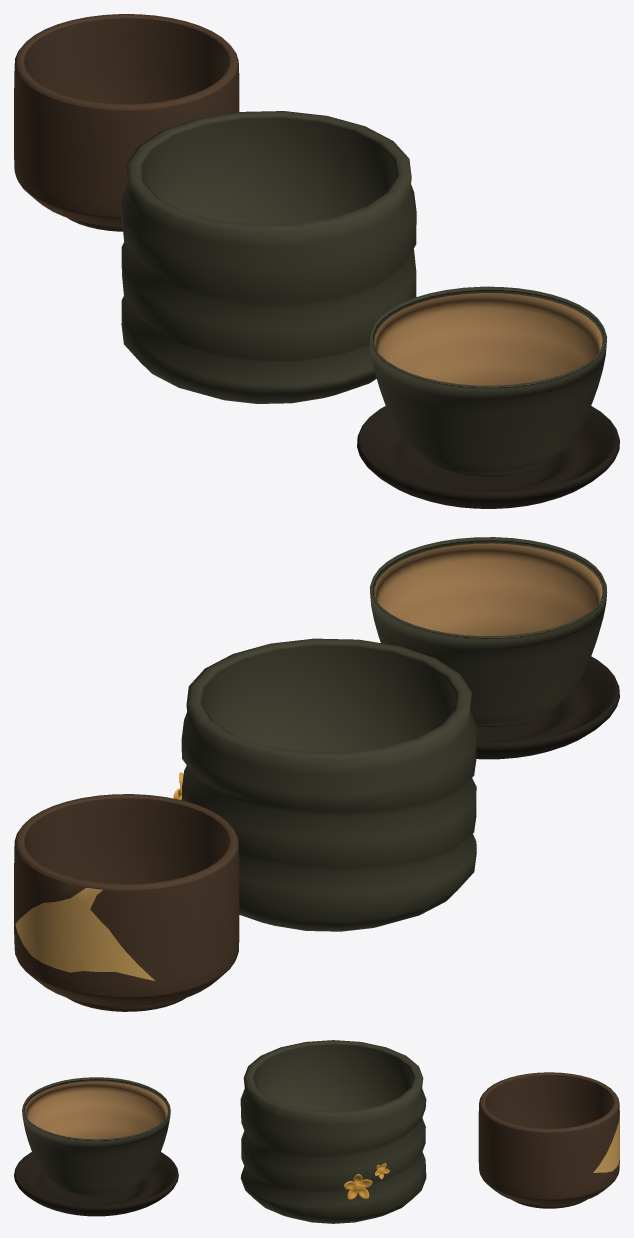
Rendered from Cups.fbx.
3 views of the same model, one above another, from view 1: azimuth 30°, elevation 25°; view 2: azimuth 150°, elevation 25°; view 3: azimuth 270°, elevation 25° (orthographic). The views are drawn at different scales.
Visible parts, largest first — view 1: cup1.002, cup4_buttom, cup2; view 2: cup1.002, cup2, cup4_buttom; view 3: cup1.002, cup4_buttom, cup2.
Part boxes in pixels (x1,y1,x2,y2): cup1.002: [121, 111, 416, 403]; cup4_buttom: [357, 286, 619, 508]; cup2: [14, 14, 239, 231]; cup1.002: [173, 638, 476, 931]; cup2: [14, 794, 239, 1011]; cup4_buttom: [369, 537, 619, 759]; cup1.002: [240, 1040, 426, 1223]; cup4_buttom: [14, 1077, 178, 1216]; cup2: [478, 1072, 619, 1208].
Size of the model in its own units: 276 by 194 by 850.
